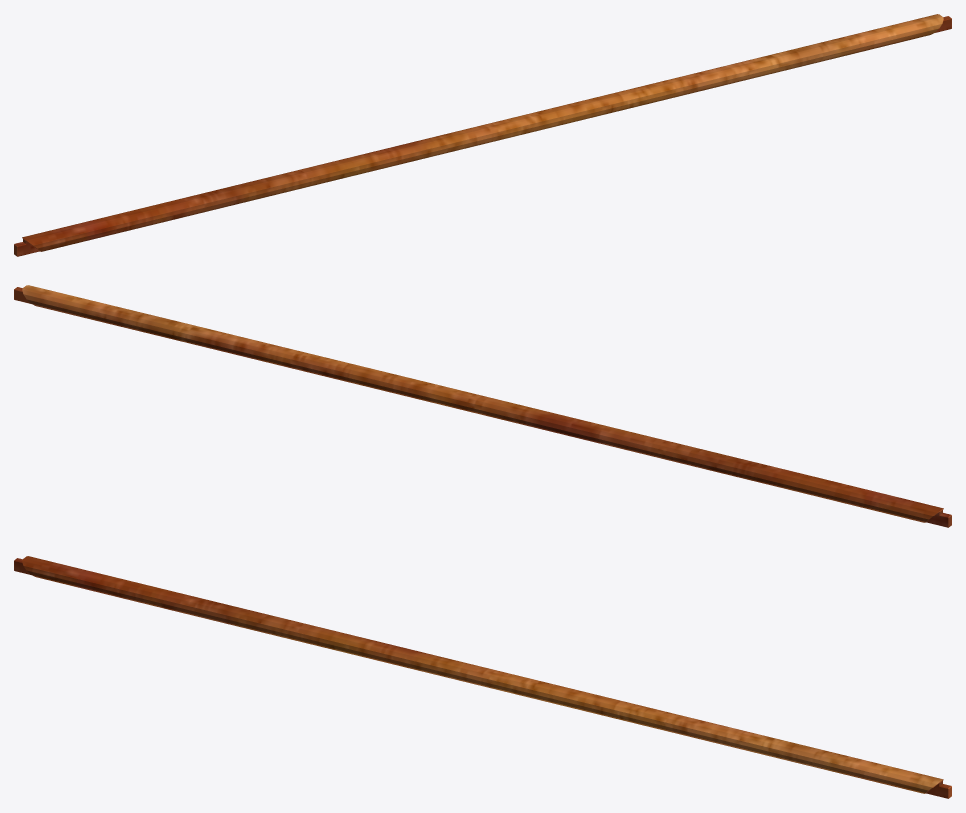
Rendered from SJ_J_hengzhang_1_003.FBX.
3 views of the same model, one above another, from view 1: azimuth 30°, elevation 25°; view 2: azimuth 150°, elevation 25°; view 3: azimuth 330°, elevation 25° (orthographic).
Parts seen in each view (by area): view 1: SJ_J_hengzhang_1_003; view 2: SJ_J_hengzhang_1_003; view 3: SJ_J_hengzhang_1_003.
Part boxes in pixels (bbox=[...]): SJ_J_hengzhang_1_003: bbox=[14, 14, 951, 256]; SJ_J_hengzhang_1_003: bbox=[14, 285, 951, 527]; SJ_J_hengzhang_1_003: bbox=[14, 556, 951, 798].
Size of the model in its own units: 101 by 1.5 by 2.
Materials: 2 (2 with a texture image).
